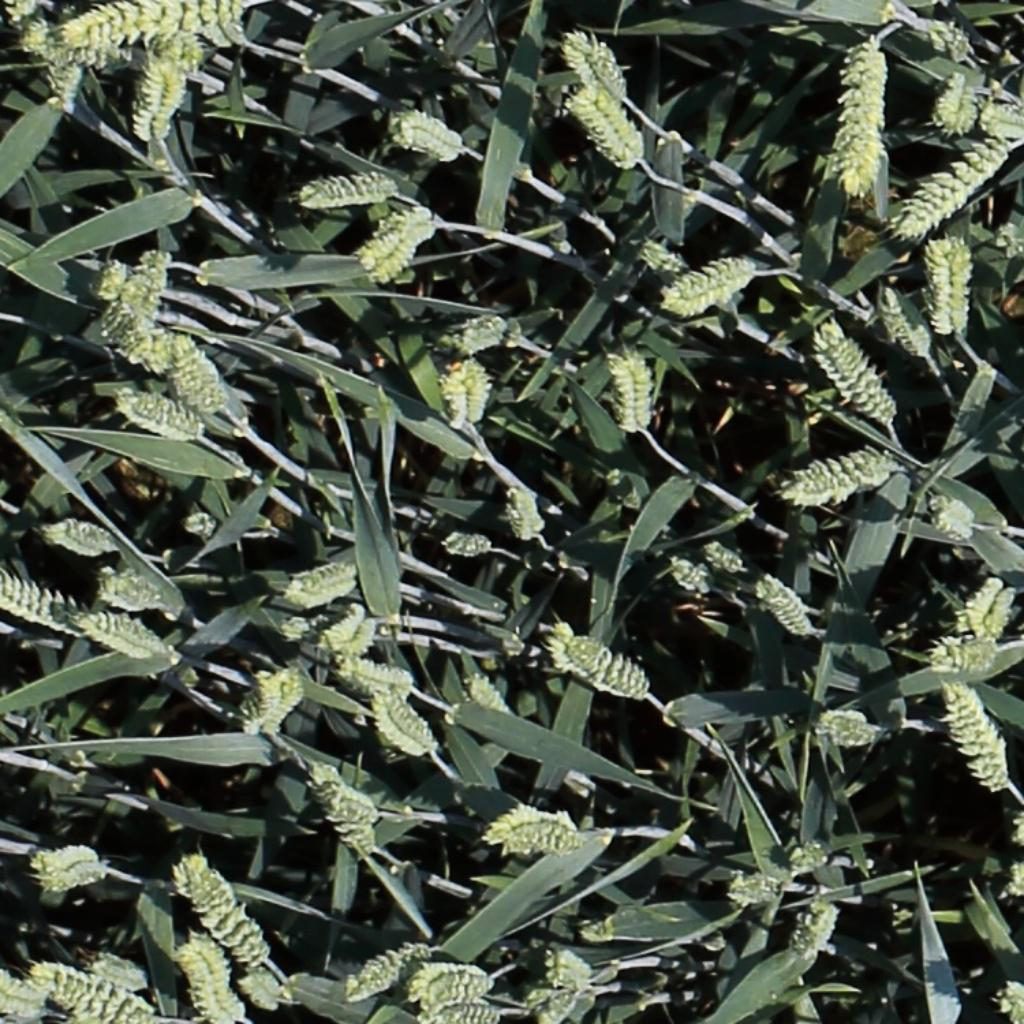0-0: (899, 124, 1015, 237), (832, 32, 887, 214), (774, 442, 898, 522), (172, 858, 264, 963), (68, 0, 253, 47), (547, 612, 649, 697), (813, 323, 897, 423), (303, 752, 418, 820), (943, 679, 1010, 794), (358, 207, 454, 283), (133, 249, 189, 373), (109, 390, 216, 451), (564, 90, 649, 166), (35, 965, 150, 1021), (559, 23, 637, 104), (659, 259, 757, 319), (308, 770, 378, 853), (128, 626, 211, 696), (345, 944, 431, 1000), (371, 690, 438, 759), (879, 281, 935, 363), (474, 809, 578, 853), (170, 327, 221, 416), (192, 943, 246, 1024), (445, 353, 496, 438), (243, 664, 302, 737), (756, 572, 817, 640), (135, 51, 181, 139), (0, 577, 76, 629), (24, 37, 132, 73), (285, 559, 363, 608), (607, 346, 648, 436), (96, 286, 132, 388), (790, 895, 842, 965), (414, 960, 490, 1006), (925, 629, 1003, 673), (76, 617, 161, 656), (36, 842, 102, 890), (973, 576, 1017, 645), (939, 68, 983, 136), (338, 652, 412, 692), (326, 603, 378, 658), (542, 950, 604, 995), (931, 236, 958, 338), (927, 486, 976, 542), (42, 526, 116, 561), (95, 576, 170, 610), (296, 180, 398, 204), (466, 670, 514, 720), (507, 480, 543, 546), (0, 973, 50, 1018), (397, 116, 465, 148), (984, 95, 1024, 145), (669, 554, 714, 598), (54, 50, 84, 116), (438, 524, 494, 559), (731, 871, 788, 905), (819, 718, 883, 746), (786, 839, 847, 868), (539, 988, 587, 1024), (239, 973, 289, 1007), (151, 27, 192, 67), (89, 957, 147, 984), (704, 542, 746, 574), (16, 20, 55, 54), (432, 1004, 501, 1022), (180, 510, 222, 539), (1, 0, 49, 25)
